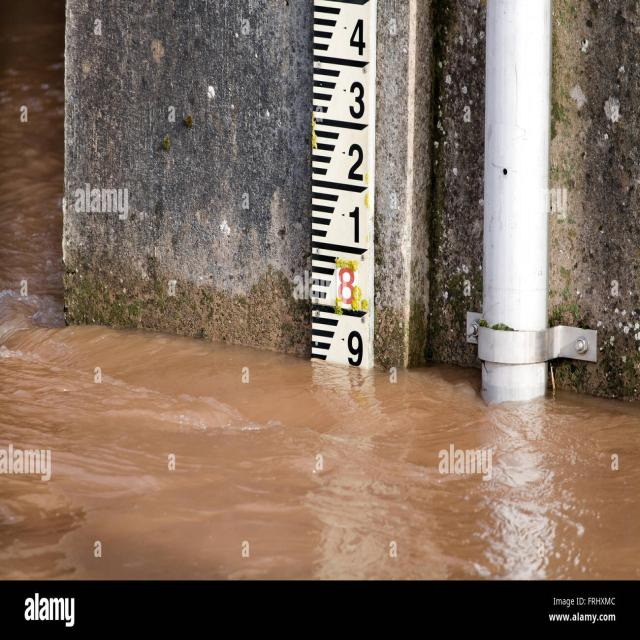ruler: (298, 0, 382, 372)
value: (334, 262, 366, 320), (342, 138, 370, 189), (342, 76, 369, 125), (346, 14, 370, 64), (343, 324, 368, 369), (344, 201, 366, 249)
